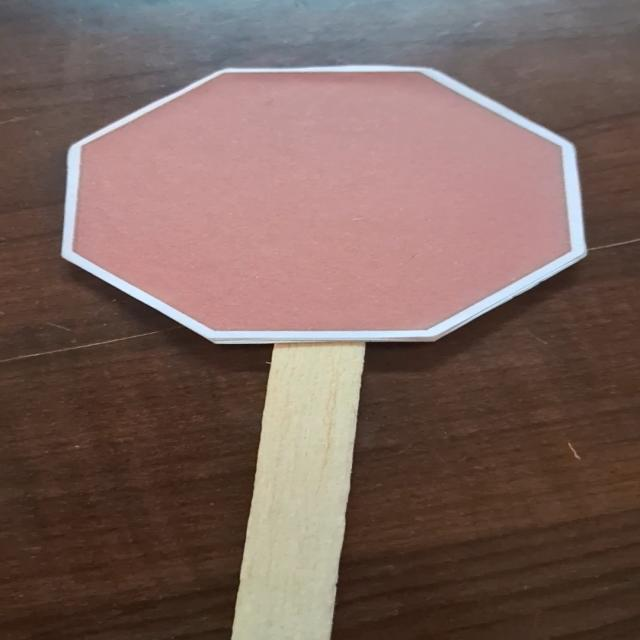Stop: (42, 59, 589, 353)
